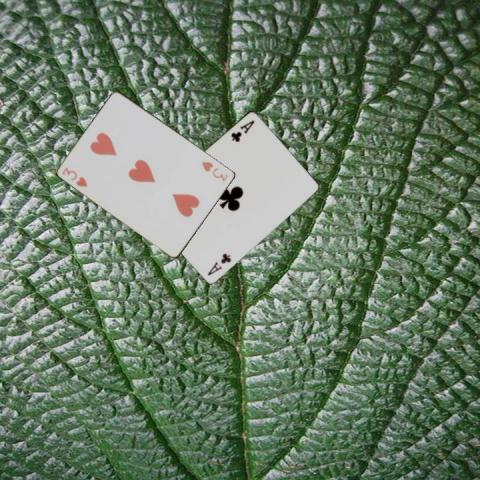3h: (199, 158, 229, 183), (60, 164, 90, 188)
Ac: (228, 117, 256, 144), (204, 251, 232, 277)
